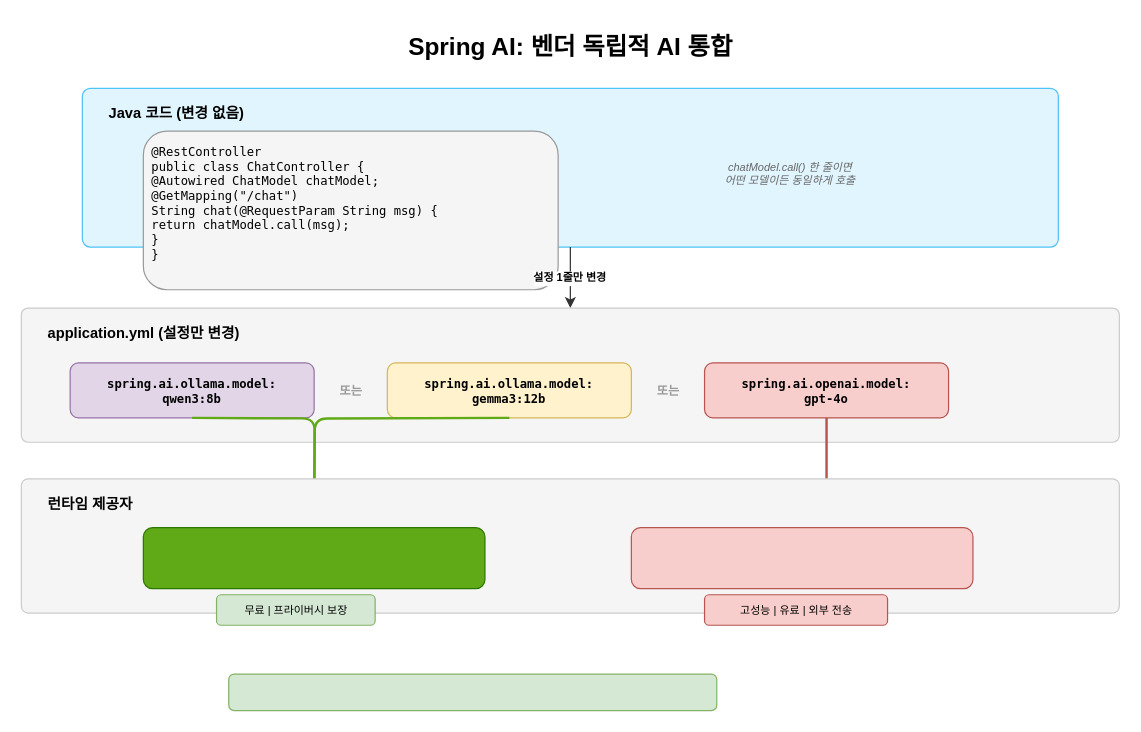
Some shapes in this 1141 by 732 pixel diagram are drawn without their labels. The centre of each missing label's shape, as x and y in pixels:
Ollama (로컬) 사내 서버 / 개발 PC: the point at 313,557
OpenAI API (클라우드) 인터넷 연결 필요: the point at 801,557
코드 변경 없이 설정 1줄만 바꾸면 모델 교체 | 벤더 종속성 제거: the point at 472,692
